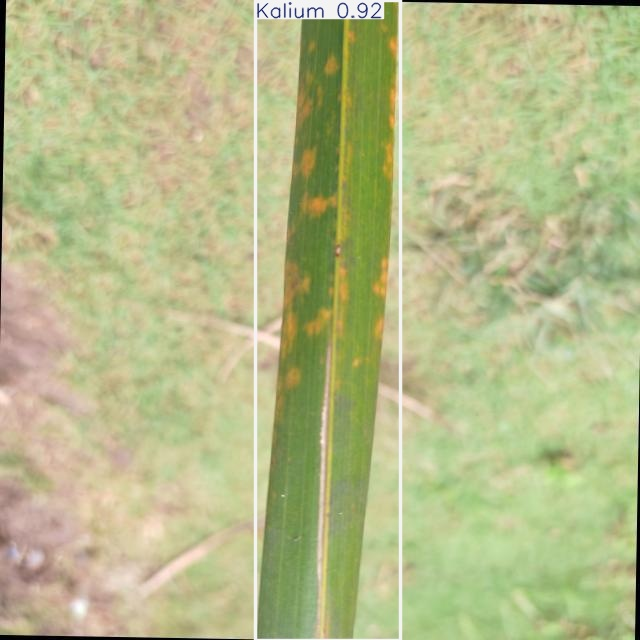Kalium: (255, 0, 400, 640)
